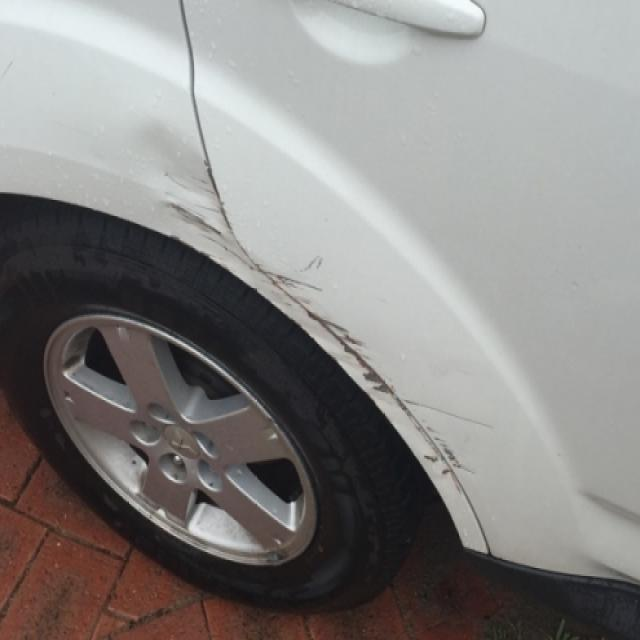scratch: (159, 157, 499, 499)
